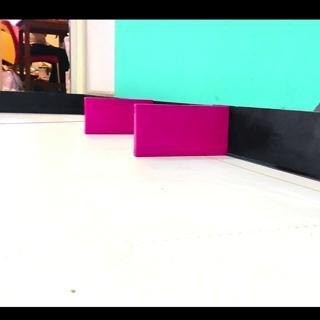xparking: (136, 106, 225, 156), (86, 100, 133, 135)
